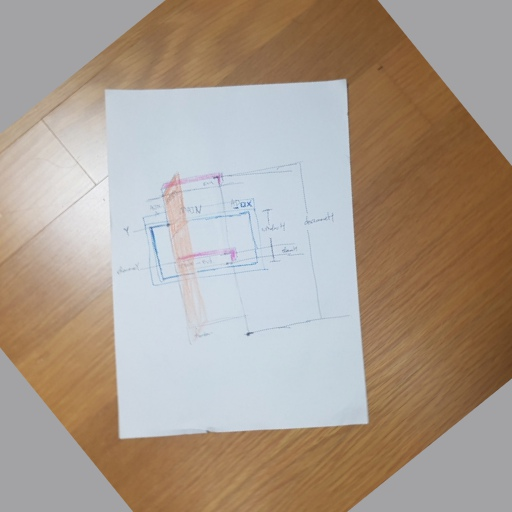Paper_2: (95, 75, 384, 449)
